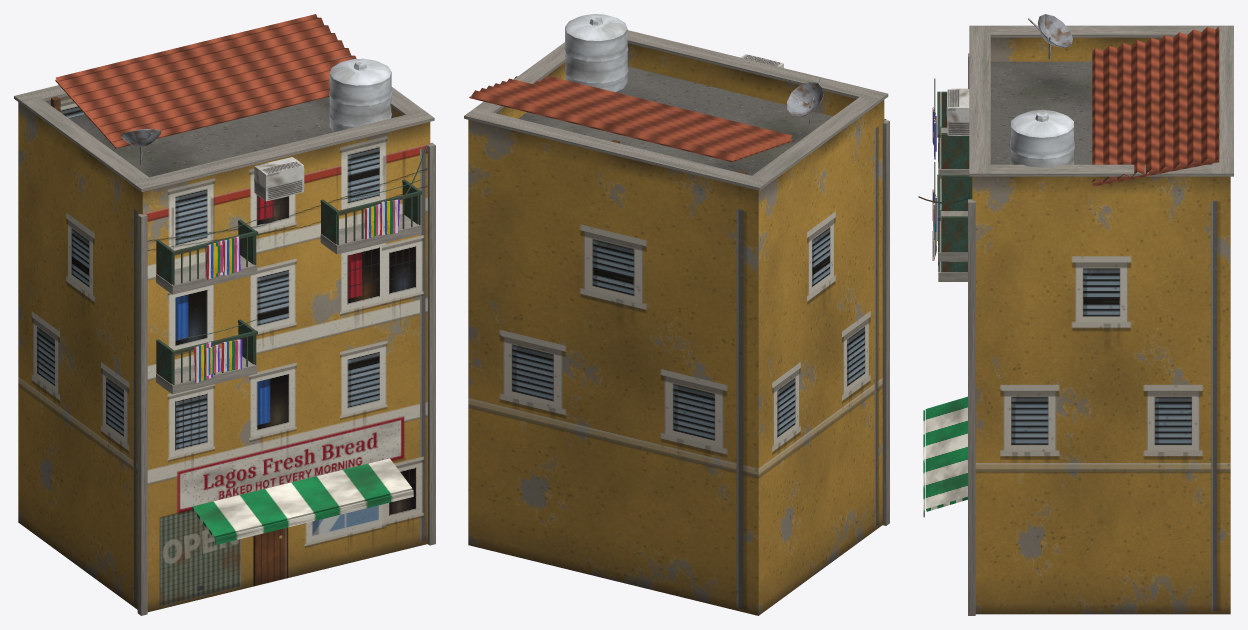
The model's file is env_building_b.glb.
3 renders of one model, left to right at view 1: azimuth 30°, elevation 25°; view 2: azimuth 150°, elevation 25°; view 3: azimuth 270°, elevation 25°, orthographic. The views are drawn at different scales.
Parts seen in each view (by area): view 1: env_building_b_body; view 2: env_building_b_body; view 3: env_building_b_body.
Part boxes in pixels (x1=…): env_building_b_body: x1=14, y1=14, x2=435, y2=615; env_building_b_body: x1=464, y1=14, x2=889, y2=615; env_building_b_body: x1=918, y1=14, x2=1233, y2=615.
Bounding box in the file's own units: 3.29 × 4.94 × 2.94.
Materials: 1 (1 with a texture image).
